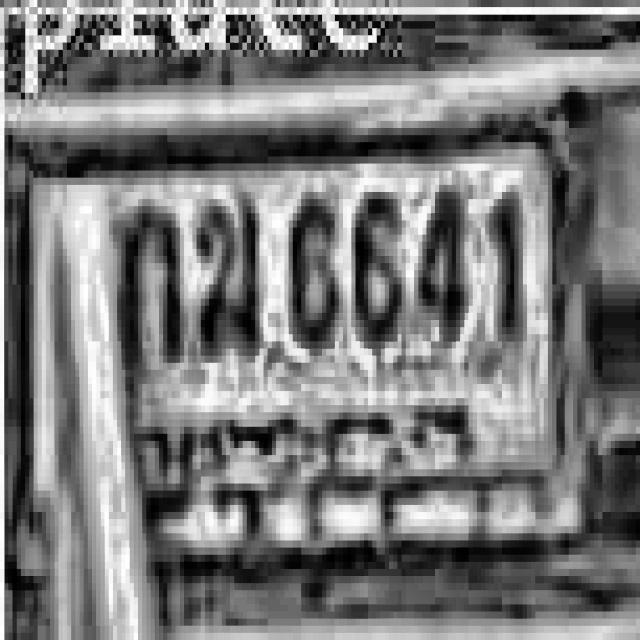license-plate: (16, 124, 586, 547)
